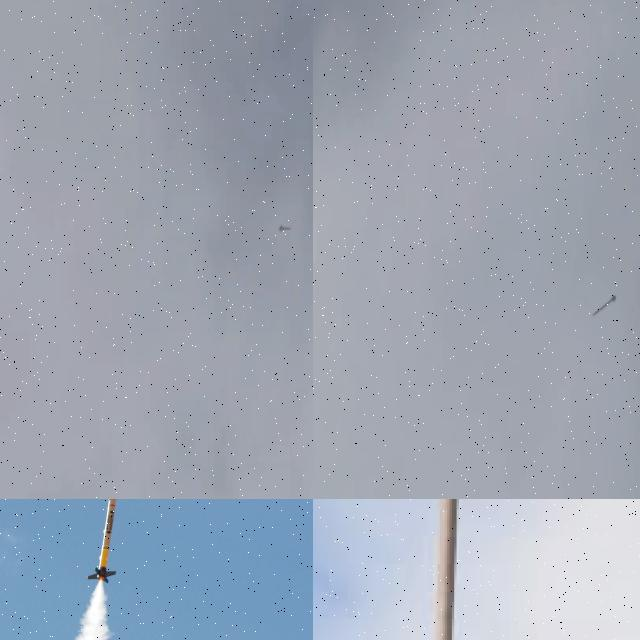Rocket: (400, 499, 475, 640), (87, 499, 118, 584), (593, 294, 616, 316), (279, 224, 291, 233)
